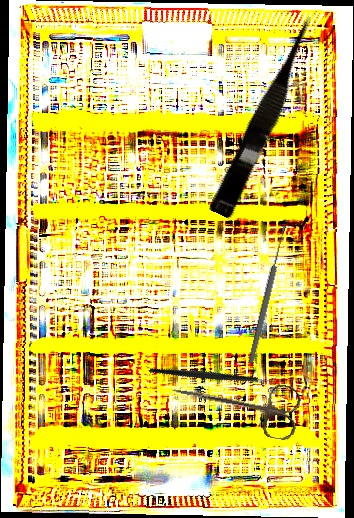Chopper: (148, 322, 282, 425)
Iris Scissors: (167, 366, 303, 442)
Micro Scissor: (208, 12, 327, 222)
Surgical Spoon: (246, 224, 290, 364)
